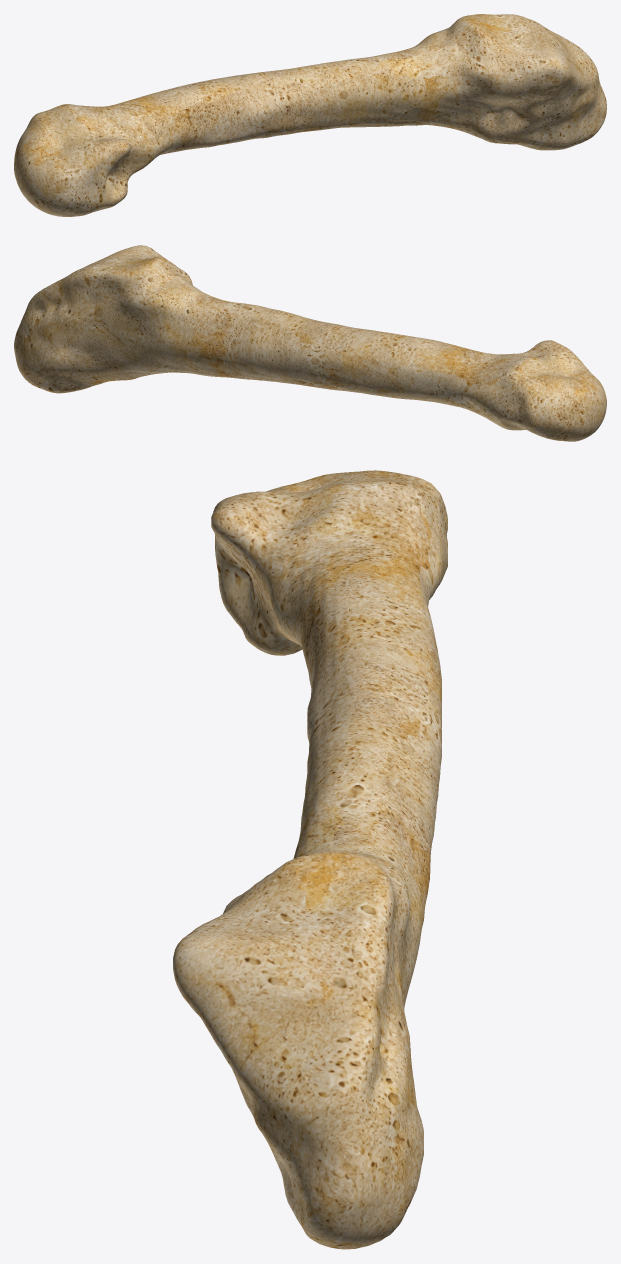
The model's file is chimpanzee-metatarsal5-right-1k-v01-textured-v03.glb.
3 renders of one model, top to bottom at view 1: azimuth 30°, elevation 25°; view 2: azimuth 150°, elevation 25°; view 3: azimuth 270°, elevation 25°, orthographic. The views are drawn at different scales.
Visible parts, largest first — view 1: Mesh_0; view 2: Mesh_0; view 3: Mesh_0.
Boxes of the visible parts, left/top/right/bottom form: Mesh_0: left=14, top=14, right=606, bottom=216; Mesh_0: left=14, top=245, right=606, bottom=441; Mesh_0: left=173, top=470, right=447, bottom=1249.
Bounding box in the file's own units: 66.14 × 16.2 × 13.7.
Materials: 1 (1 with a texture image).
